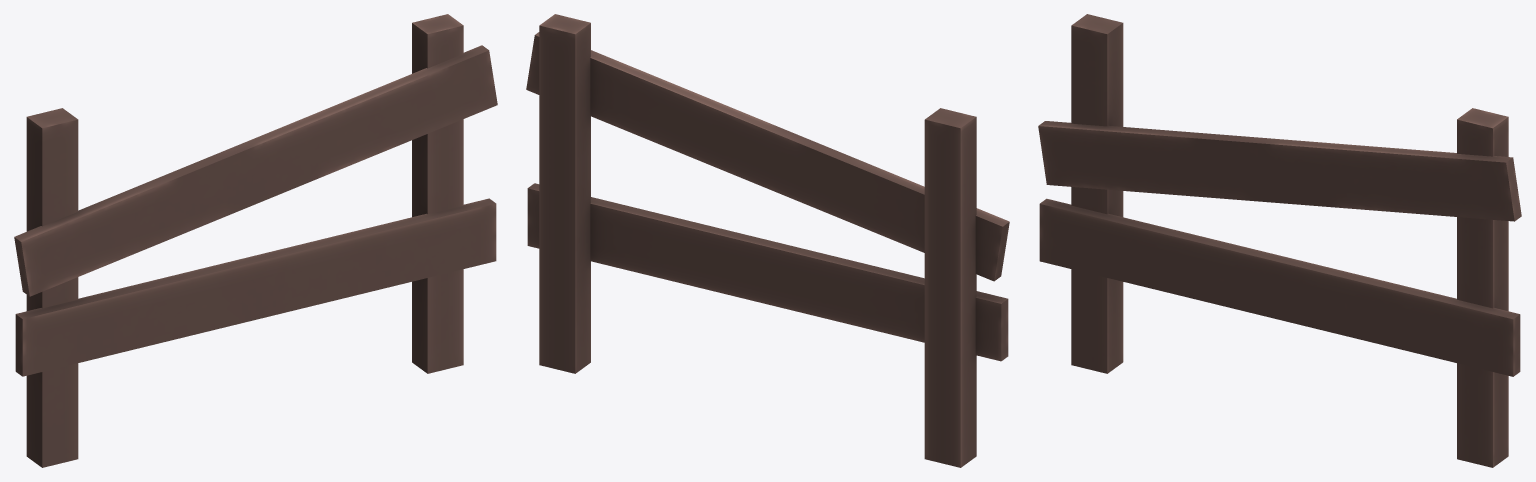
Rendered from Fence_12.fbx.
The picture shows the model from 3 angles, left to right: view 1: azimuth 30°, elevation 25°; view 2: azimuth 150°, elevation 25°; view 3: azimuth 330°, elevation 25°; orthographic projection.
Parts seen in each view (by area): view 1: Fence_12; view 2: Fence_12; view 3: Fence_12.
Part boxes in pixels (<box>): Fence_12: <box>14,14,497,467</box>; Fence_12: <box>526,14,1009,467</box>; Fence_12: <box>1038,14,1521,467</box>.
Bounding box in the file's own units: 60.18 × 40.98 × 4.78.
